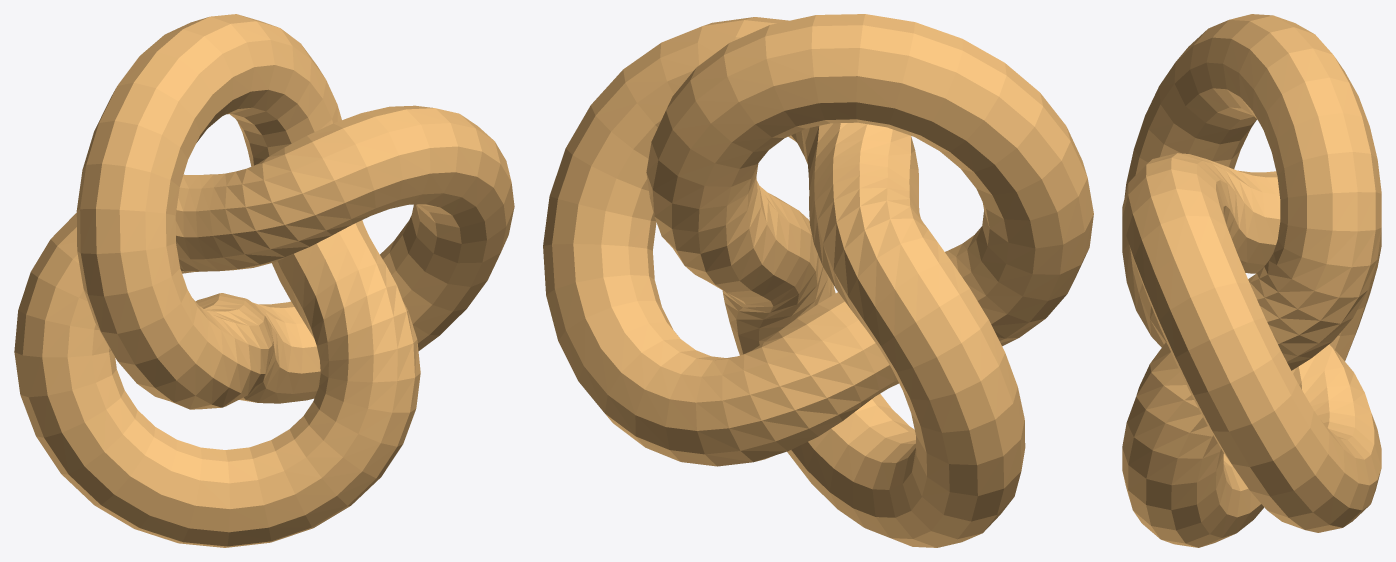
The model's file is knot.glb.
3 views of the same model, side by side, from view 1: azimuth 30°, elevation 25°; view 2: azimuth 150°, elevation 25°; view 3: azimuth 270°, elevation 25° (orthographic). The views are drawn at different scales.
Parts seen in each view (by area): view 1: Knot; view 2: Knot; view 3: Knot.
Boxes of the visible parts, box(x1,y1,x2,y2) form: Knot: box(14, 14, 514, 547); Knot: box(543, 14, 1093, 547); Knot: box(1122, 14, 1381, 547).
Bounding box in the file's own units: 3.32 × 3.45 × 1.63.
